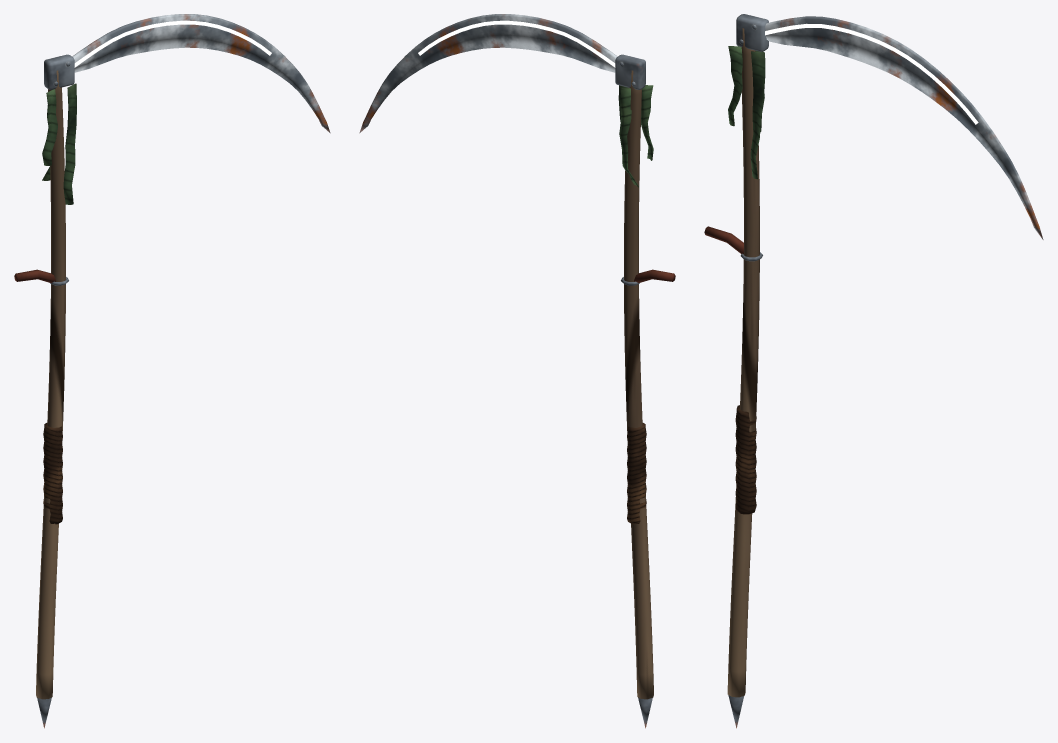
Rendered from TideScythe.fbx.
The picture shows the model from 3 angles, left to right: view 1: azimuth 30°, elevation 25°; view 2: azimuth 150°, elevation 25°; view 3: azimuth 330°, elevation 25°; orthographic projection. The views are drawn at different scales.
Parts seen in each view (by area): view 1: TideScythe; view 2: TideScythe; view 3: TideScythe.
Part boxes in pixels (<box>): TideScythe: <box>14,14,330,728</box>; TideScythe: <box>359,14,675,728</box>; TideScythe: <box>704,14,1043,728</box>.
Bounding box in the file's own units: 0.8949 × 1.86 × 0.0528.
